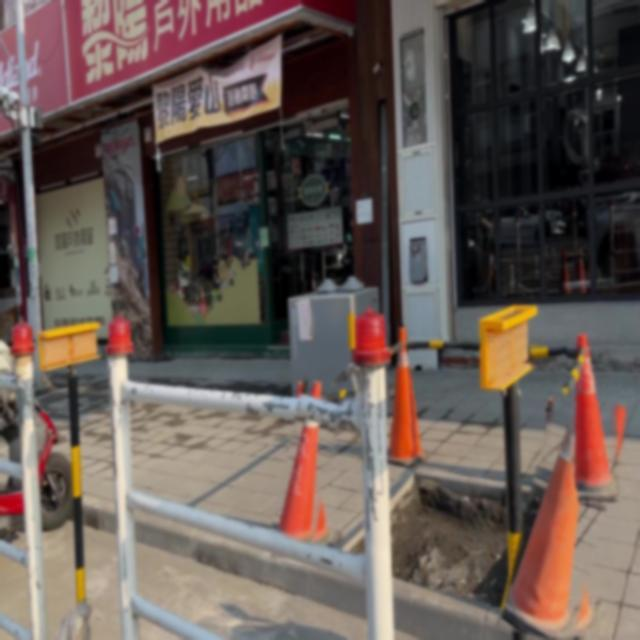bike: (0, 330, 74, 544)
traffic cone: (499, 432, 595, 640), (569, 333, 620, 503), (275, 421, 331, 544), (386, 327, 427, 469), (105, 313, 135, 358), (561, 250, 589, 296)
